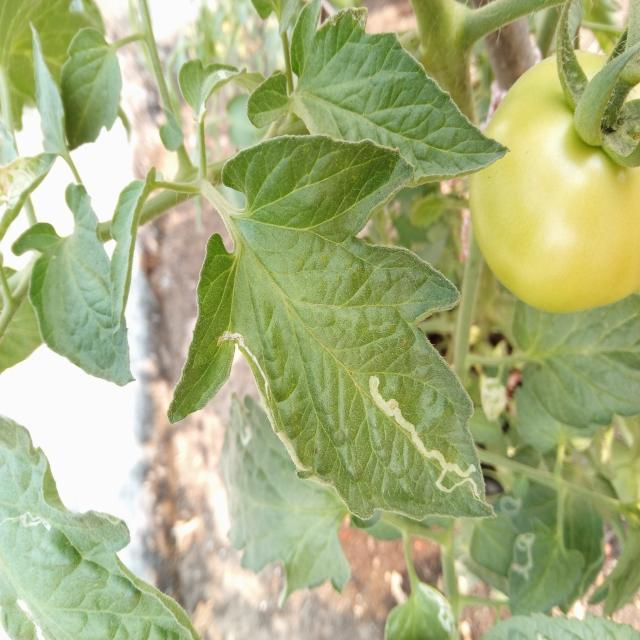Tuta absoluta: (352, 365, 494, 515), (215, 325, 284, 394)
